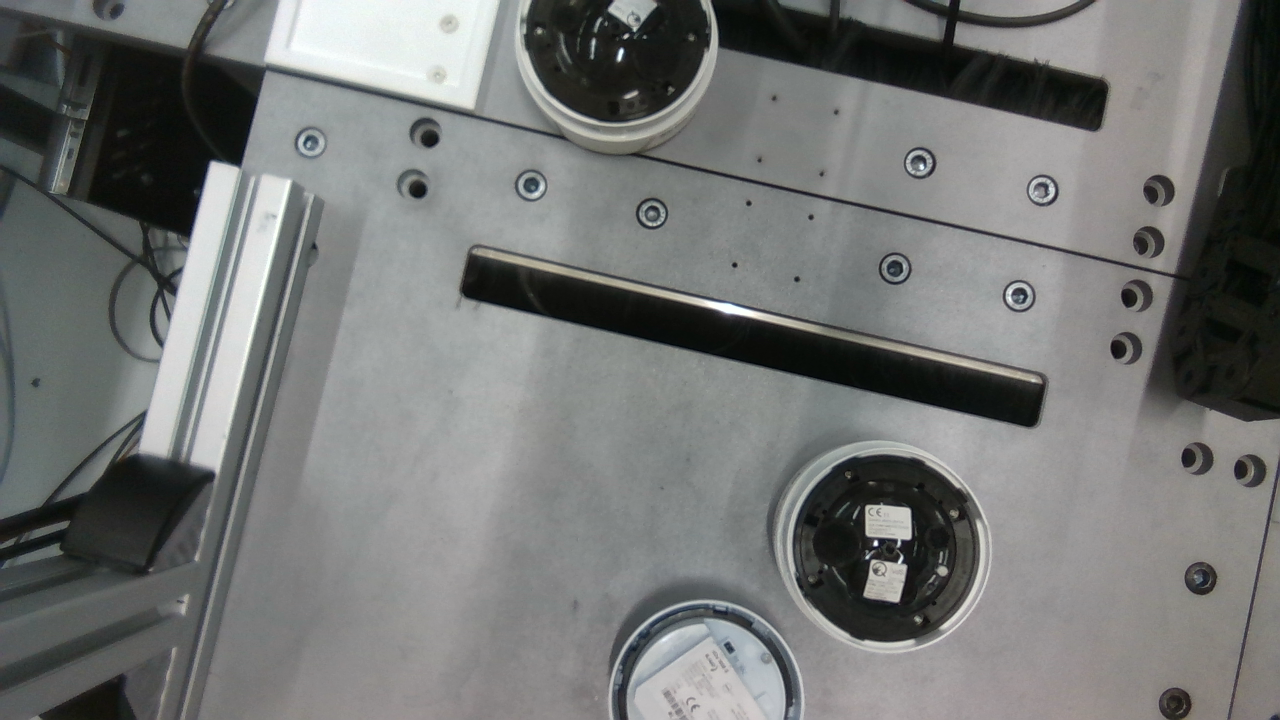HexScrew: (681, 29, 698, 46), (914, 614, 928, 629), (662, 83, 678, 96), (844, 468, 858, 482), (808, 573, 819, 588), (761, 649, 772, 663), (949, 506, 961, 517), (535, 24, 544, 36)
